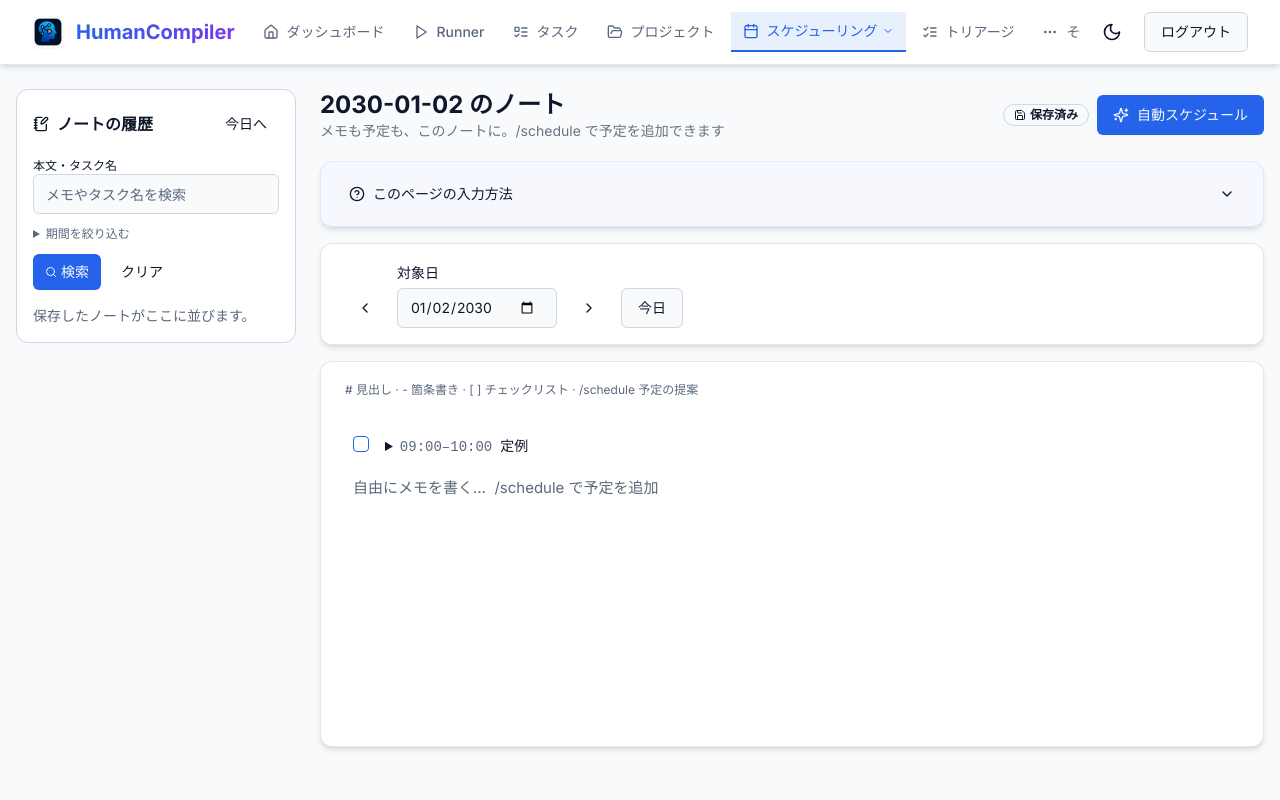
Test case: DailyPlanWorkspace › fixed line task link › narrows candidates by task, goal and project words and links with Enter
Check: the field named "日次ノート" is shown, box [353,436,528,455]
Click the heading "09:00–10:00定例".
click(464, 446)  # box [400,437,528,455]
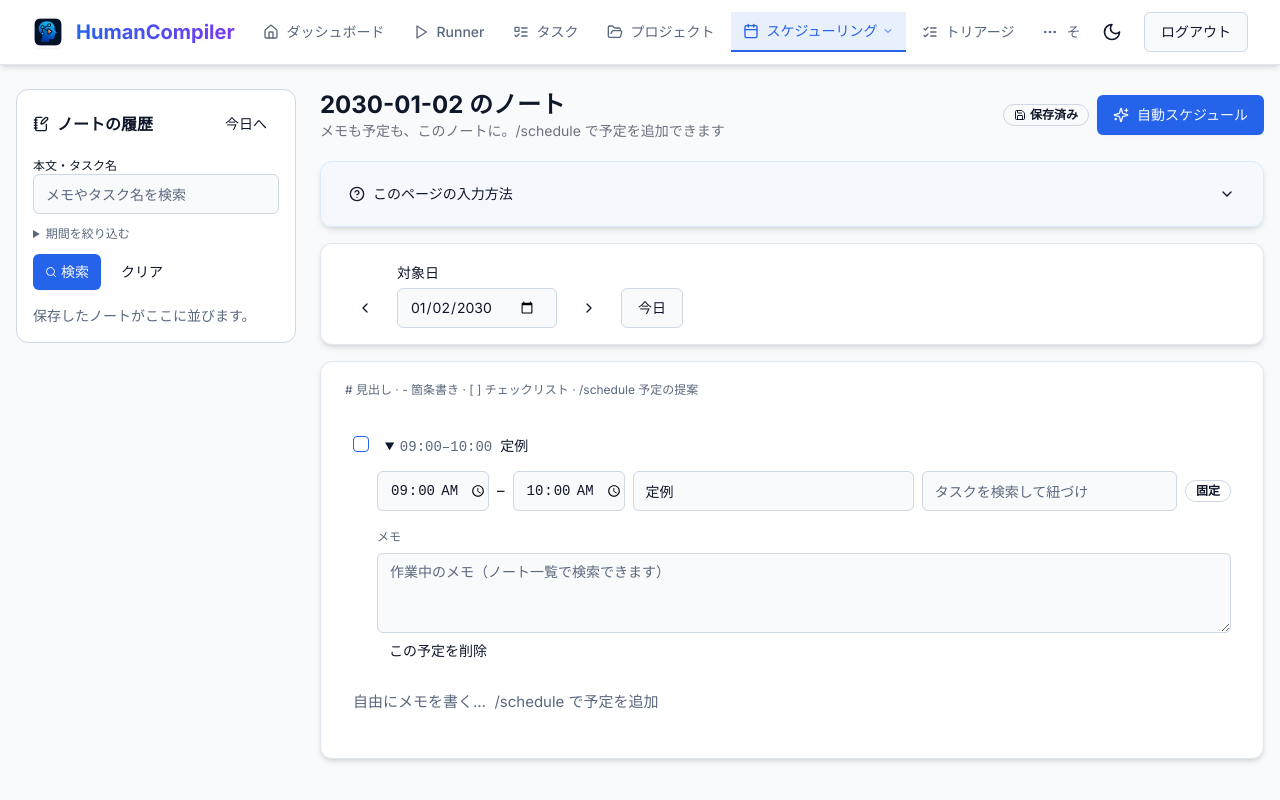
Focus the dropdown named "紐づけるタスク" at (1049, 491), box [922,471,1177,511]
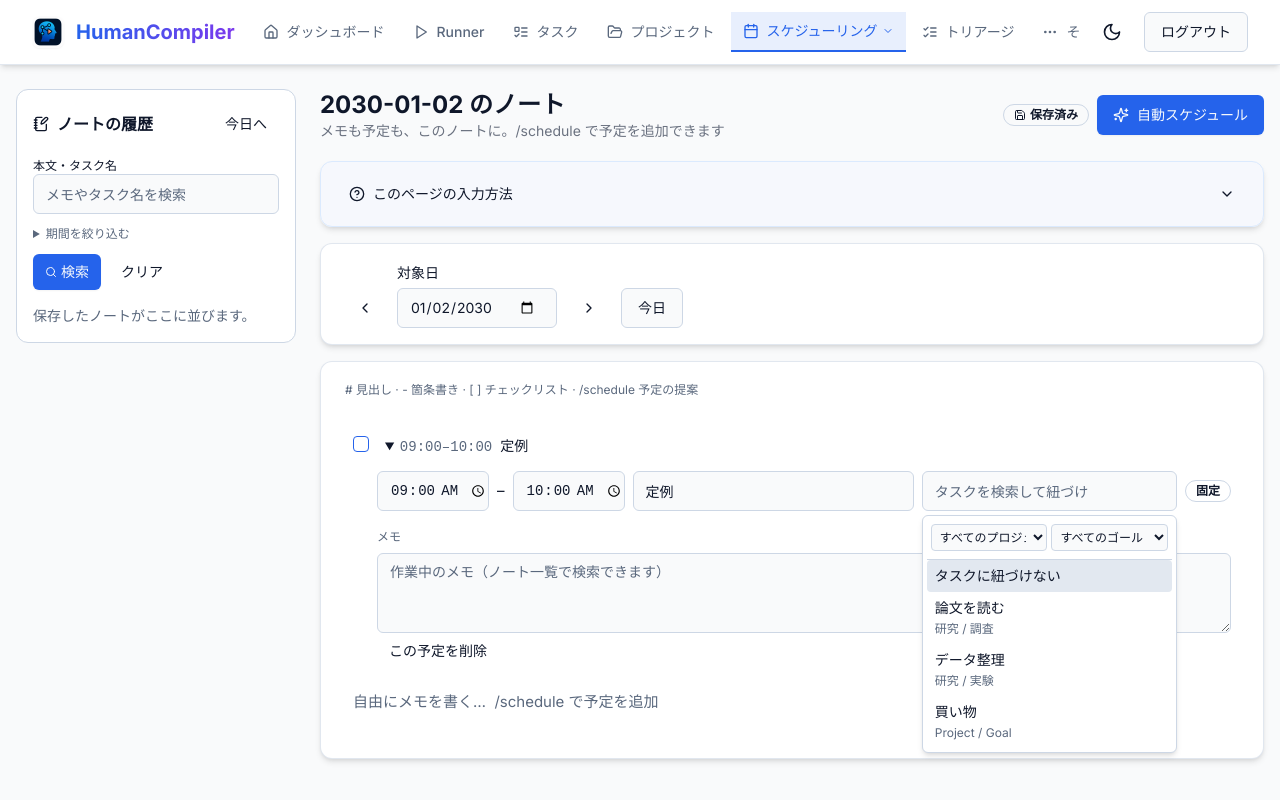
Check: the number of options is 4, box [927,560,1172,592]; [935,599,1005,636]; [935,651,1005,688]; [935,703,1012,740]
Type "研究　読む" into the dropdown named "紐づけるタスク".
click(1049, 491); type("研究　読む")  # box [922,471,1177,511]
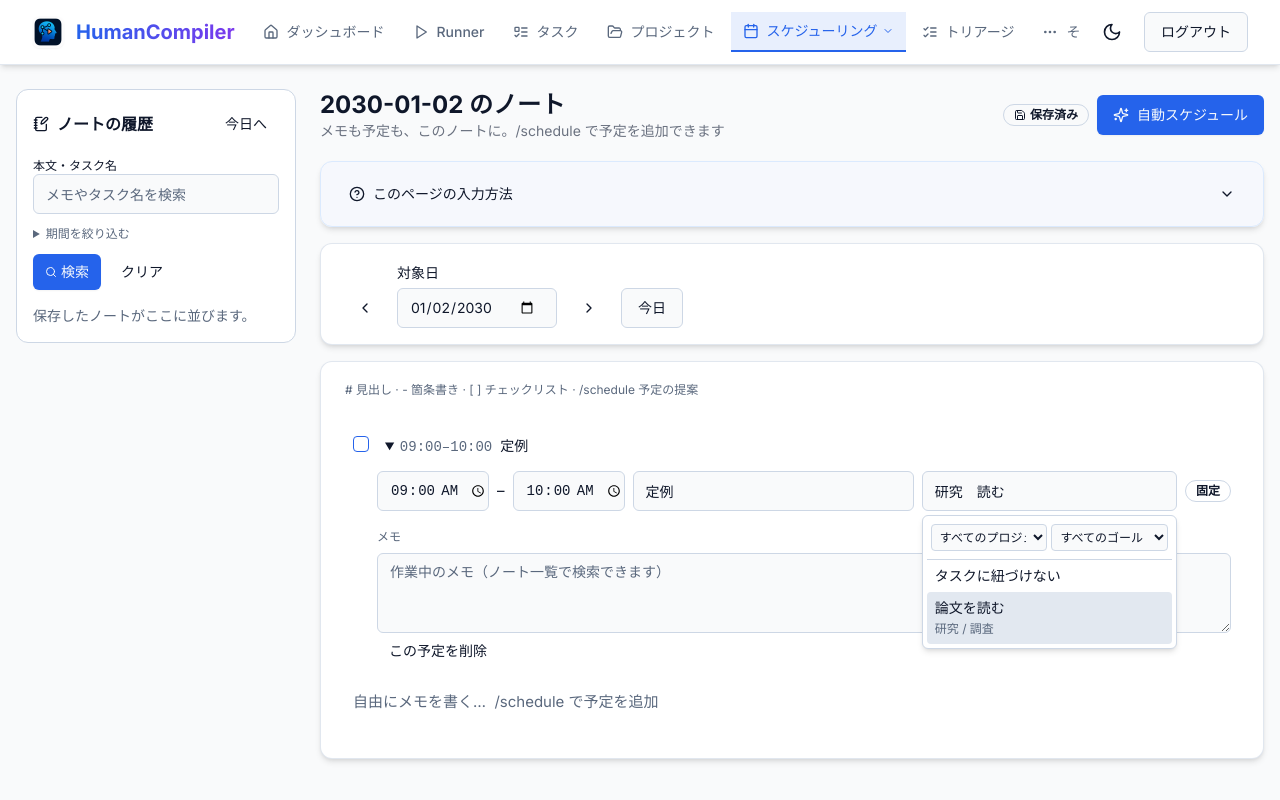
Check: the options read "タスクに紐づけない", "論文を読む研究 / 調査", in this order, box [935,567,1061,584]; [927,592,1172,644]
Press Enter in the dropdown named "紐づけるタスク", box [922,471,1177,511]
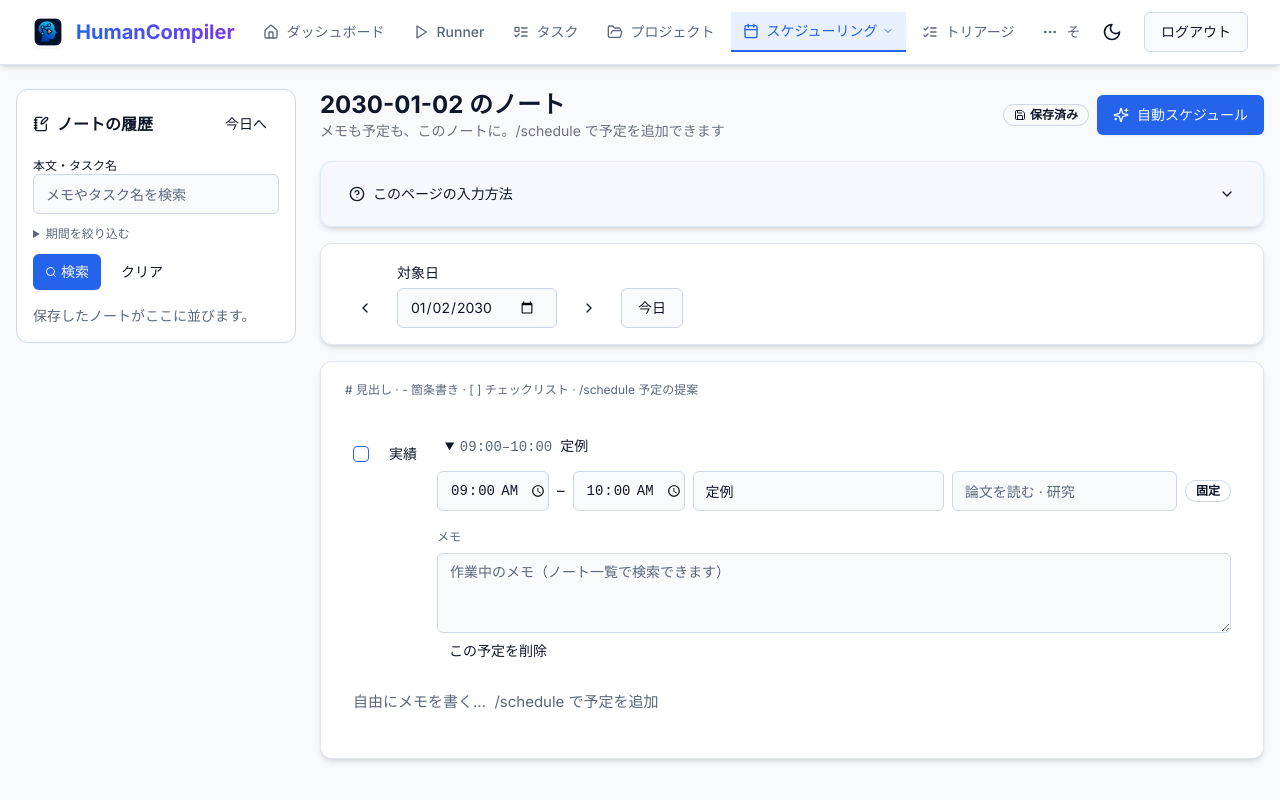
Check: the heading "09:00–10:00定例" is shown, box [460,437,588,455]
Check: the field named "予定名" holds "定例", box [692,471,944,511]
Check: the list is gone
